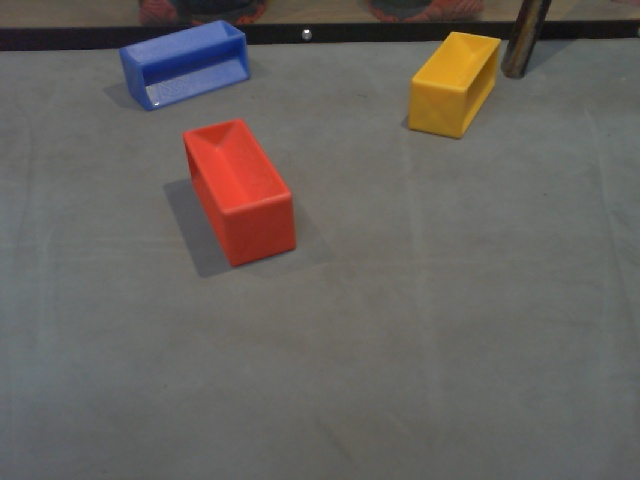BlueSample: (116, 19, 253, 112)
RedSample: (177, 114, 299, 272)
YellowSample: (405, 26, 503, 147)
